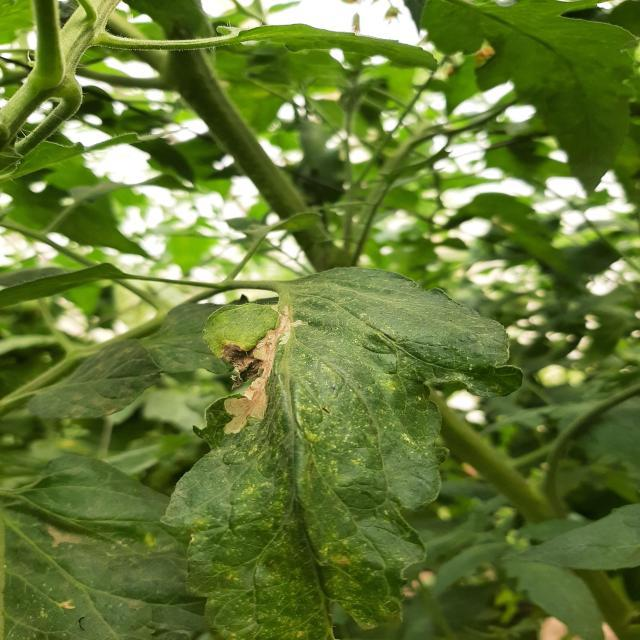Tuta absoluta: (190, 290, 314, 445)
